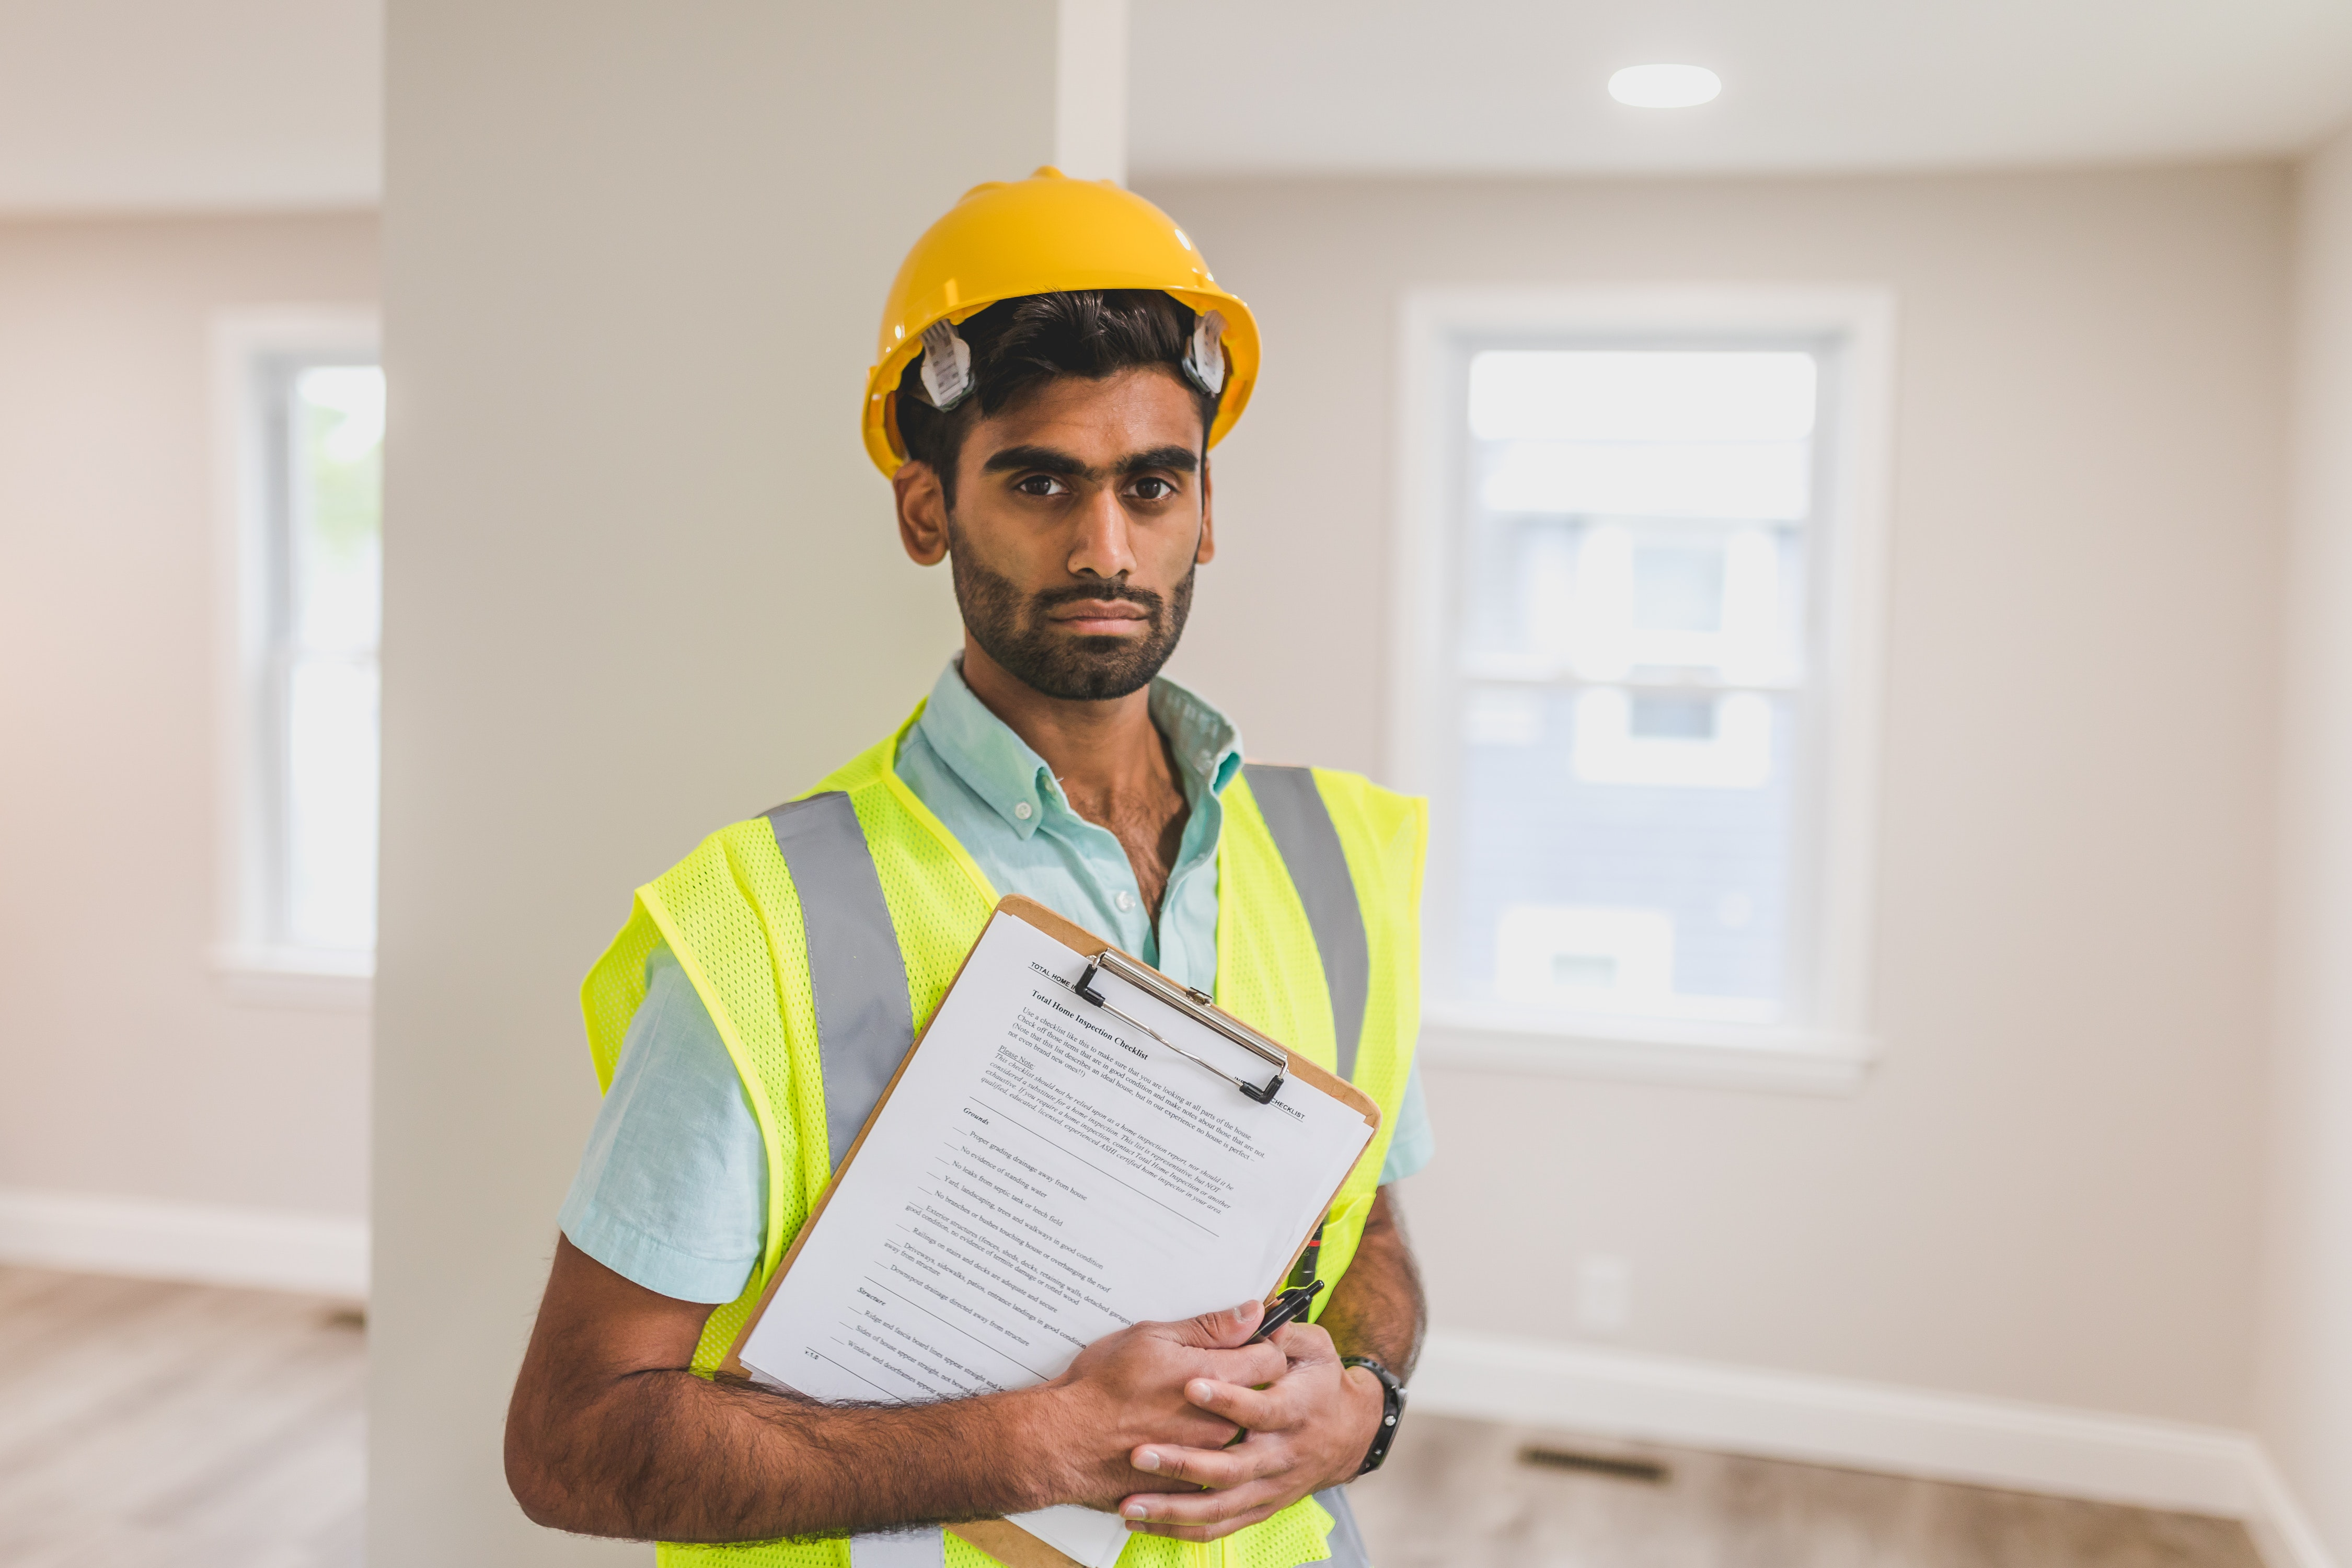Helmet: (840, 121, 1284, 772)
Reflective vest: (576, 710, 1438, 1568)
